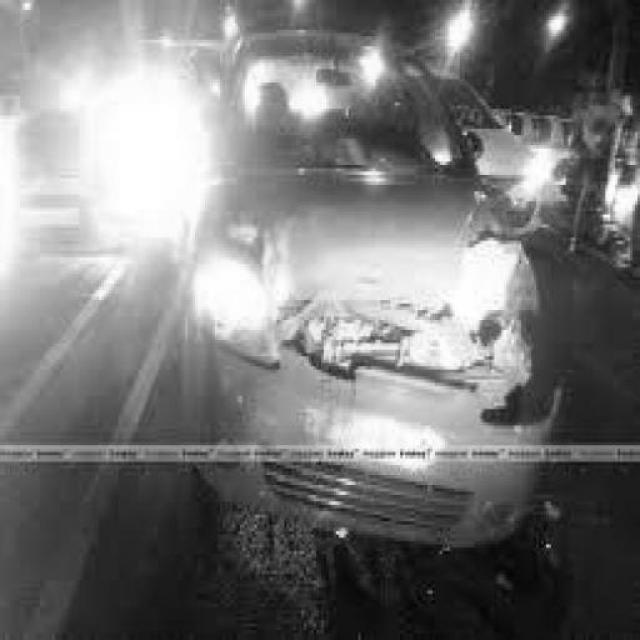crush: (178, 202, 541, 544)
